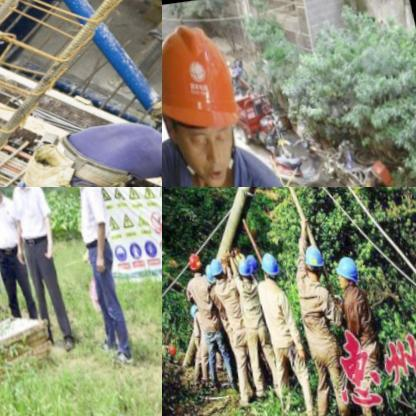helmet: (162, 6, 262, 187), (327, 253, 359, 298), (293, 239, 323, 283), (250, 246, 279, 286), (204, 255, 224, 282), (229, 257, 248, 284), (181, 250, 200, 274), (240, 251, 256, 277)
